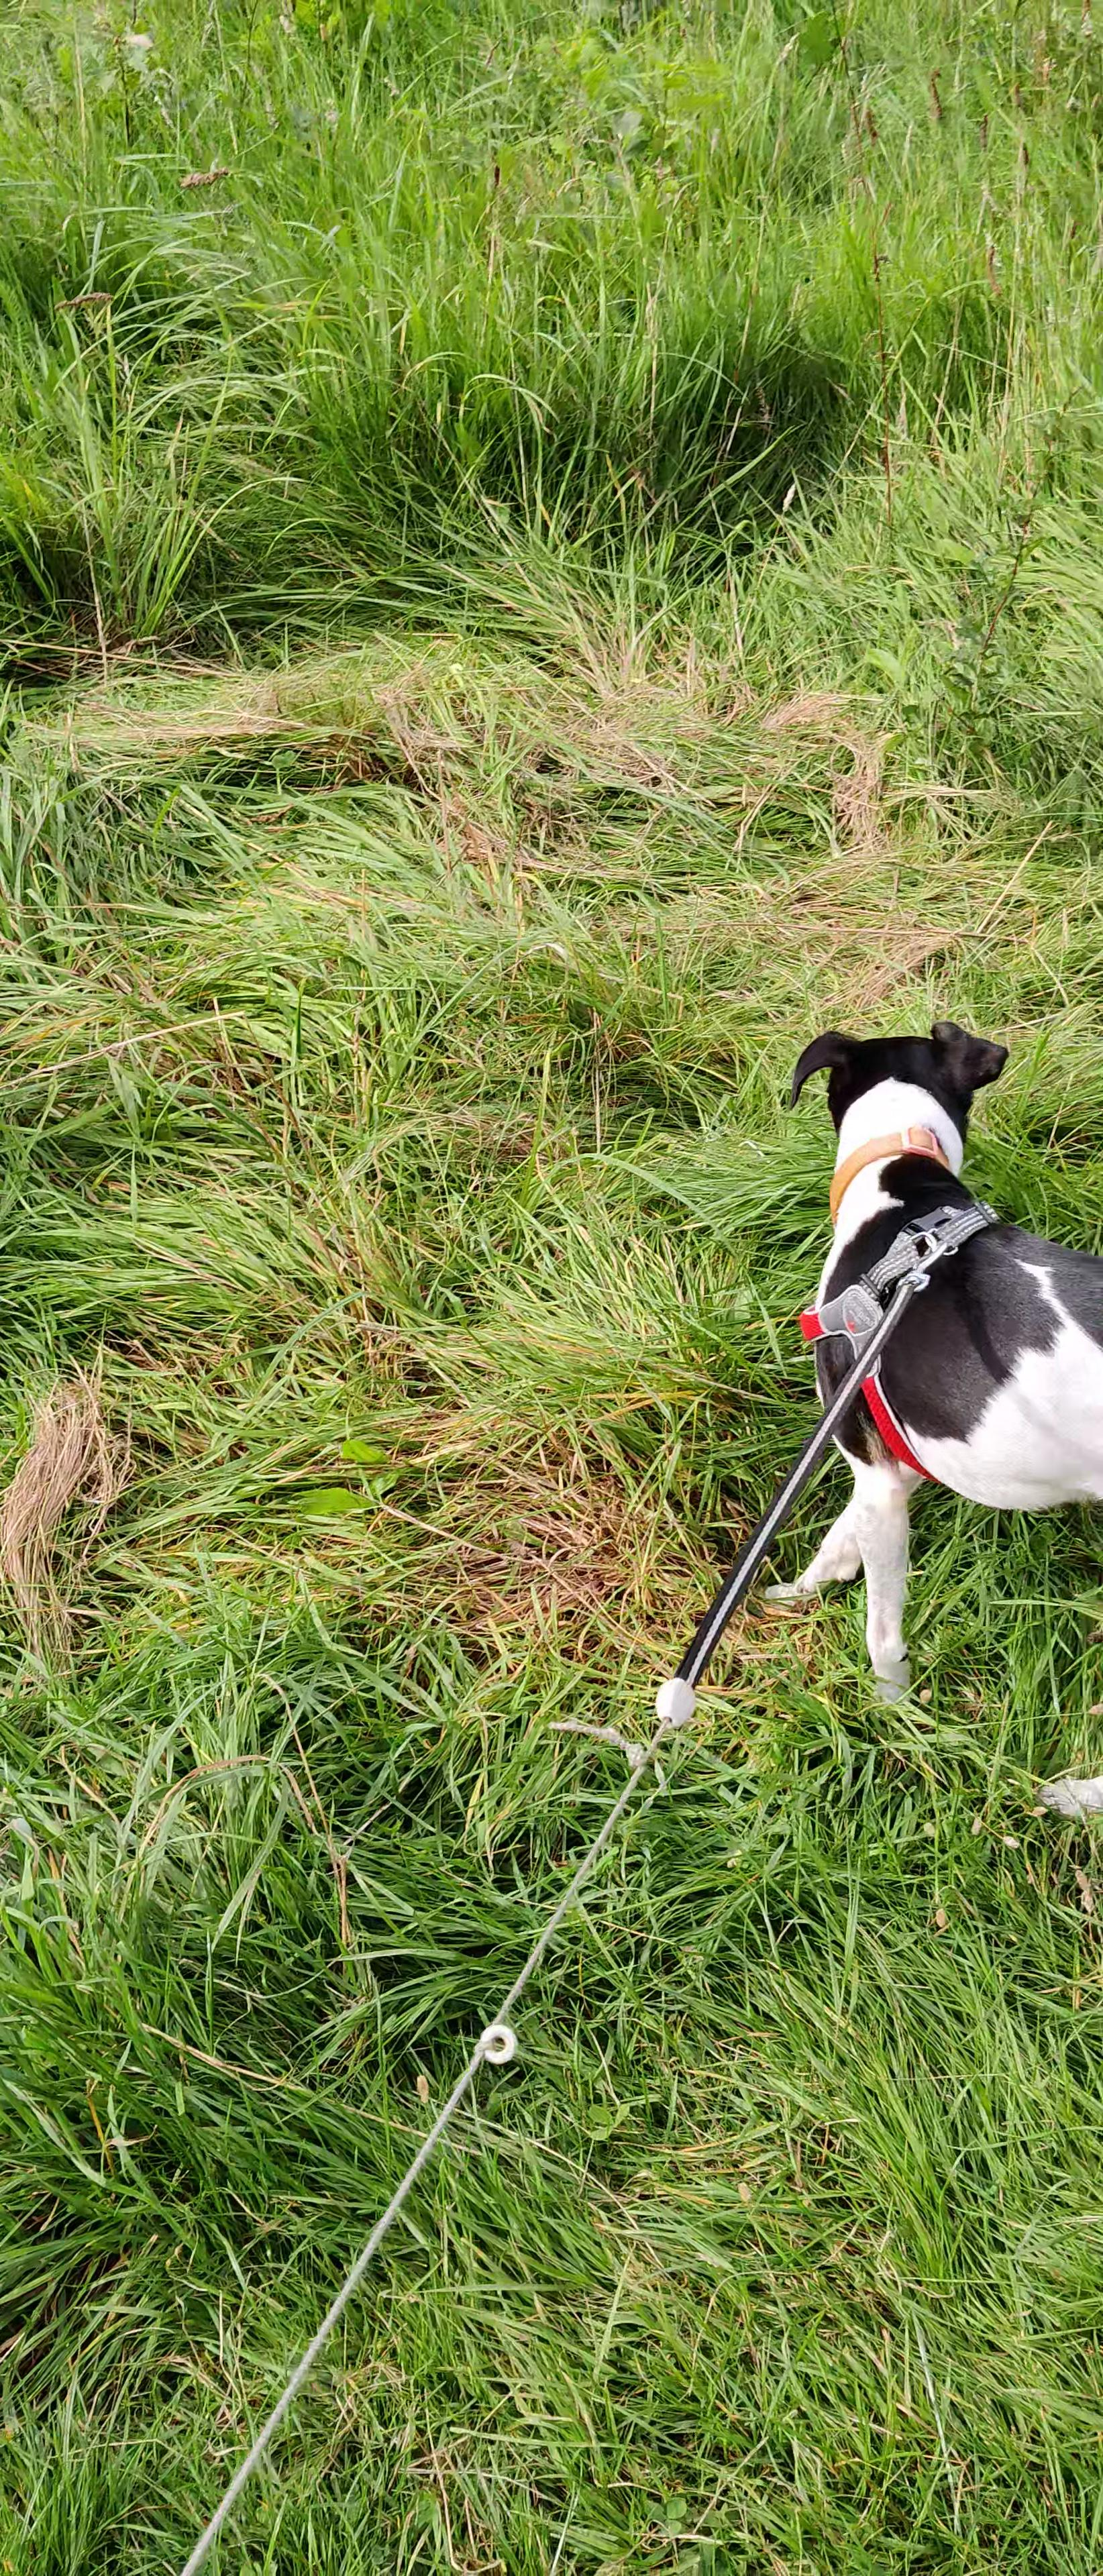Dog: (755, 1014, 1103, 1832)
